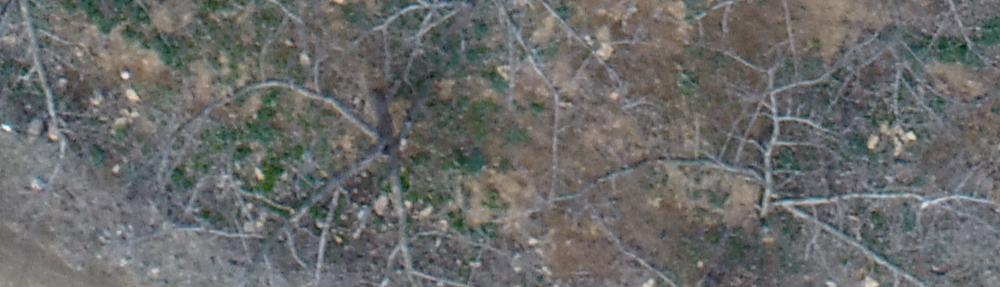apple: (544, 29, 990, 277), (144, 62, 508, 277)
